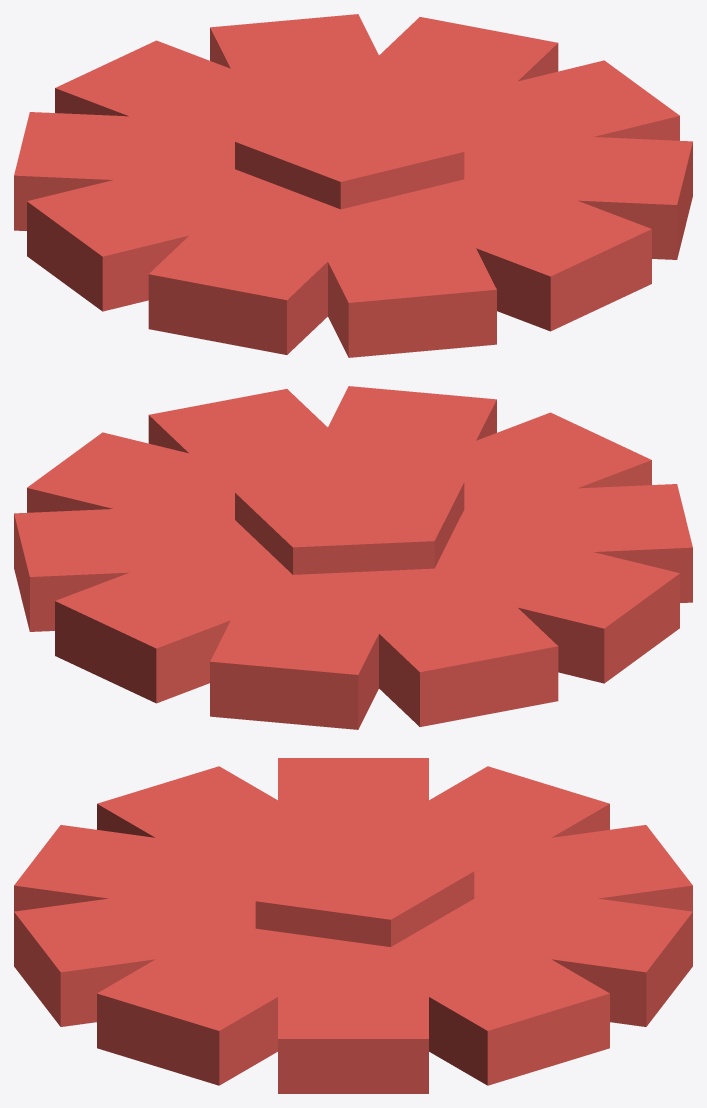
Rendered from starfish.glb.
The picture shows the model from 3 angles, top to bottom: view 1: azimuth 30°, elevation 25°; view 2: azimuth 150°, elevation 25°; view 3: azimuth 270°, elevation 25°; orthographic projection.
Visible parts, largest first — view 1: starfish; view 2: starfish; view 3: starfish.
Boxes of the visible parts, bbox=[...] form: starfish: bbox=[14, 14, 692, 357]; starfish: bbox=[14, 386, 692, 729]; starfish: bbox=[14, 758, 692, 1093].
Bounding box in the file's own units: 0.22 × 0.03 × 0.2247.
